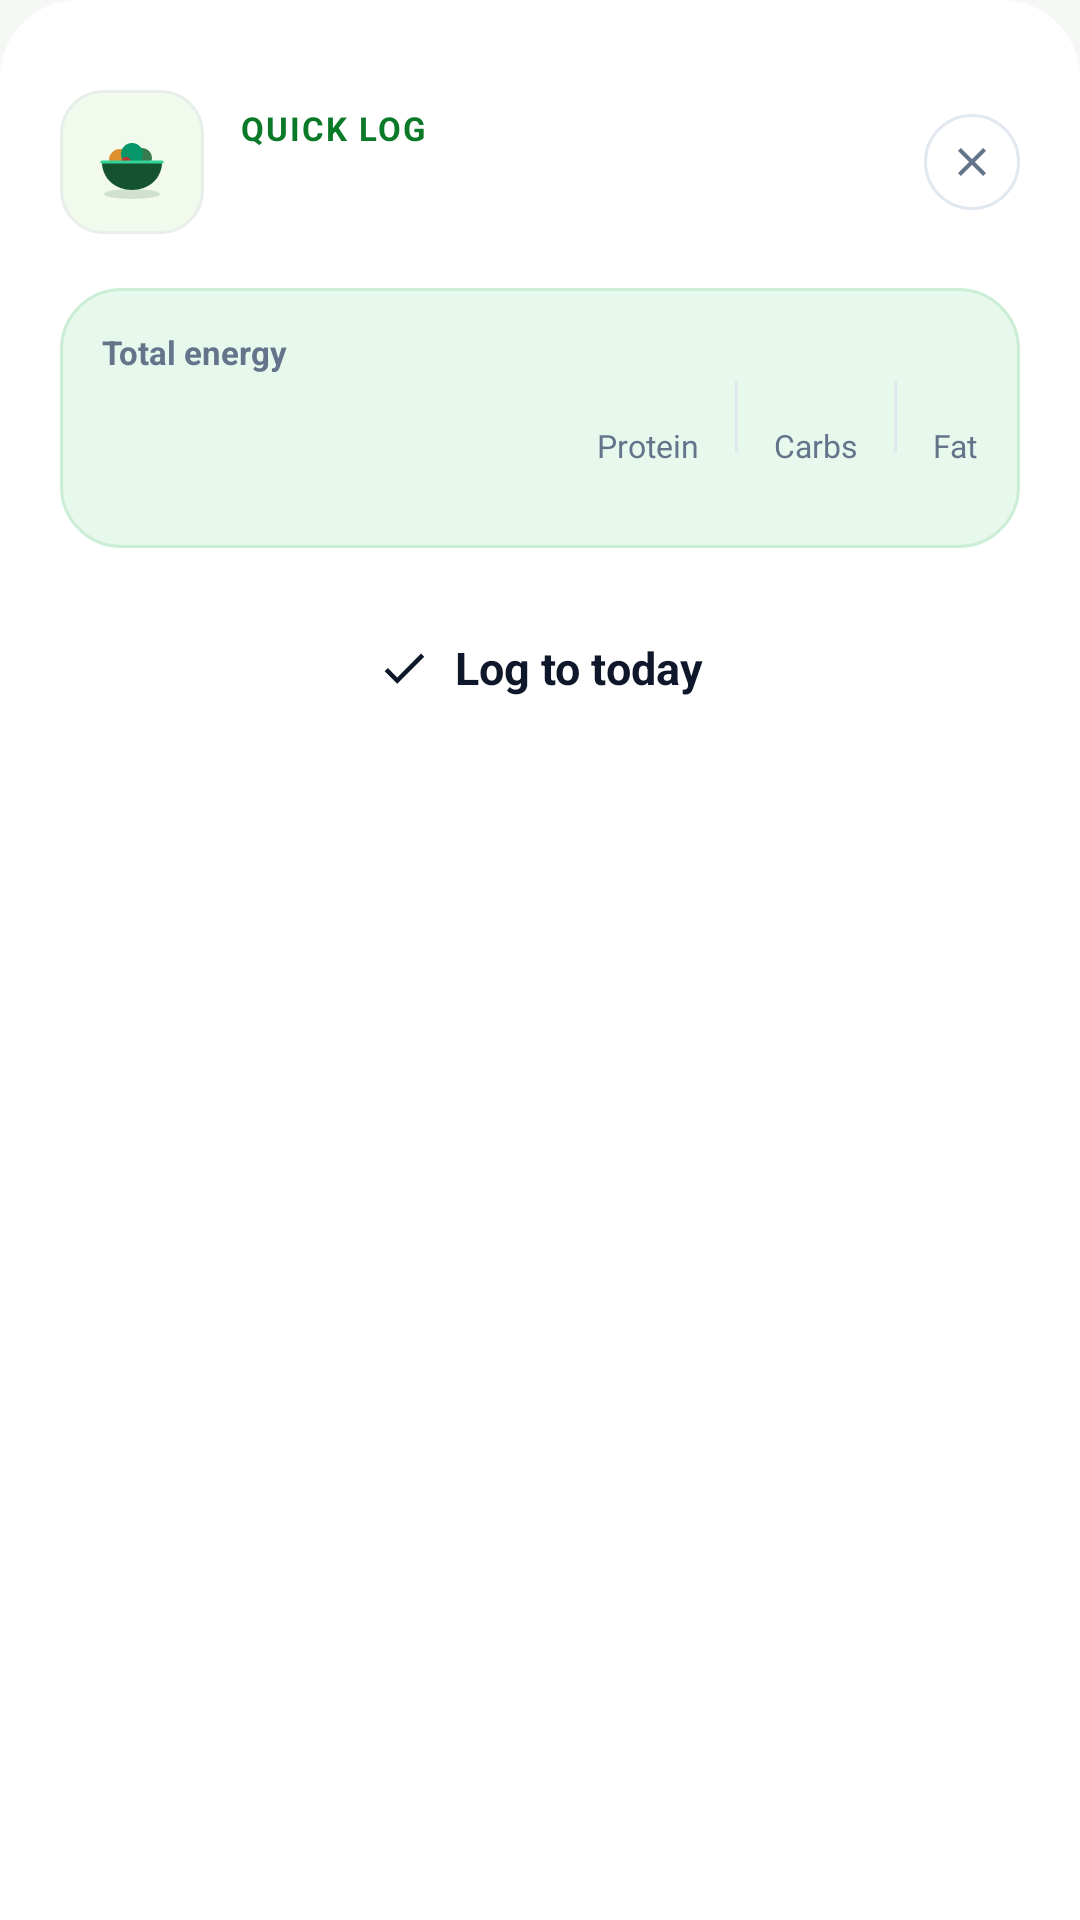

Icon click points for this 1080×1920 phone screenshot, format point (x, y):
check: point (404, 668)
Close: point (972, 162)
meal bowl: point (132, 171)
